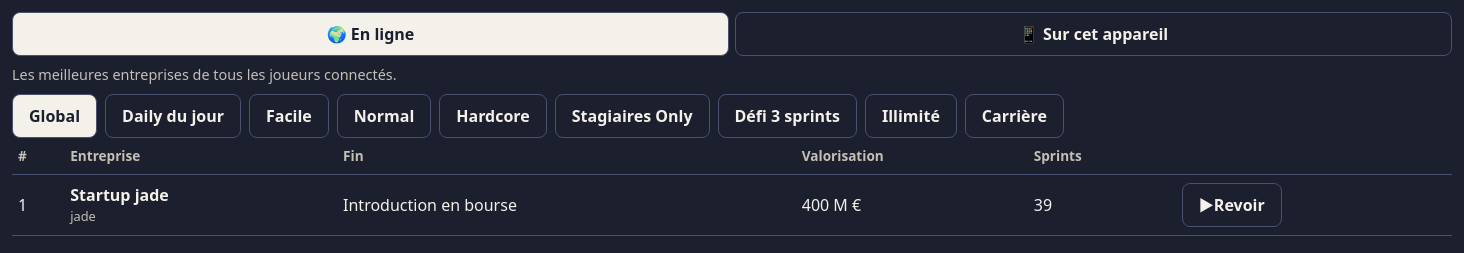
Test case: Leaderboard › change de classement avec les onglets
Check: the column heading "Startup jade jade" is shown, box [64,175,337,236]
Click the tab "Daily du jour".
click(173, 116)  # box [105,94,241,138]
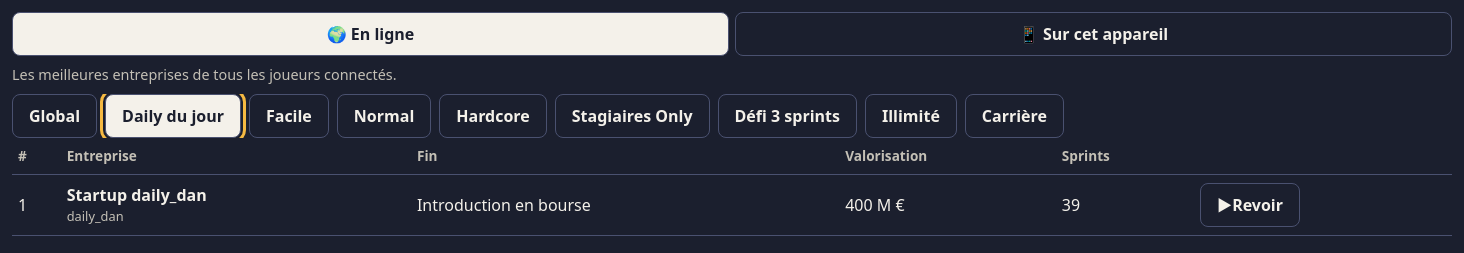
Check: the column heading "Startup daily_dan daily_dan" is shown, box [61,175,411,236]
Check: the text "jade" is gone
Click the tab "Hardcore".
click(493, 116)  # box [439,94,547,138]
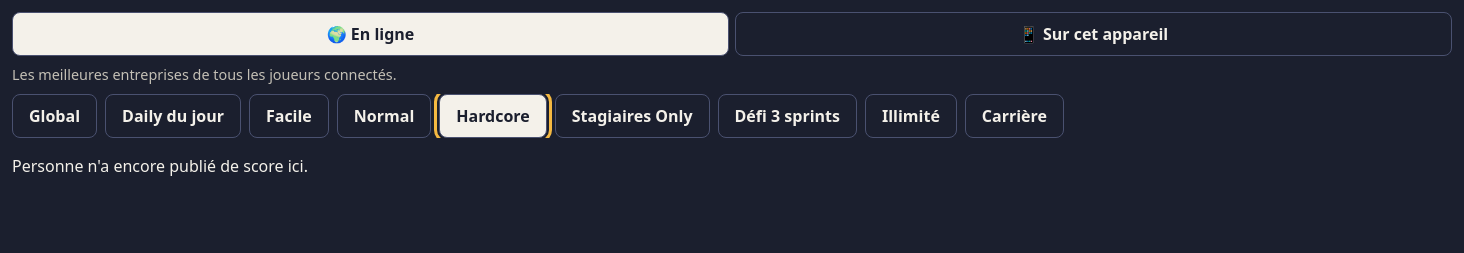
Check: the text "Personne n'a encore publié de score ici." is shown, box [12,155,308,177]
